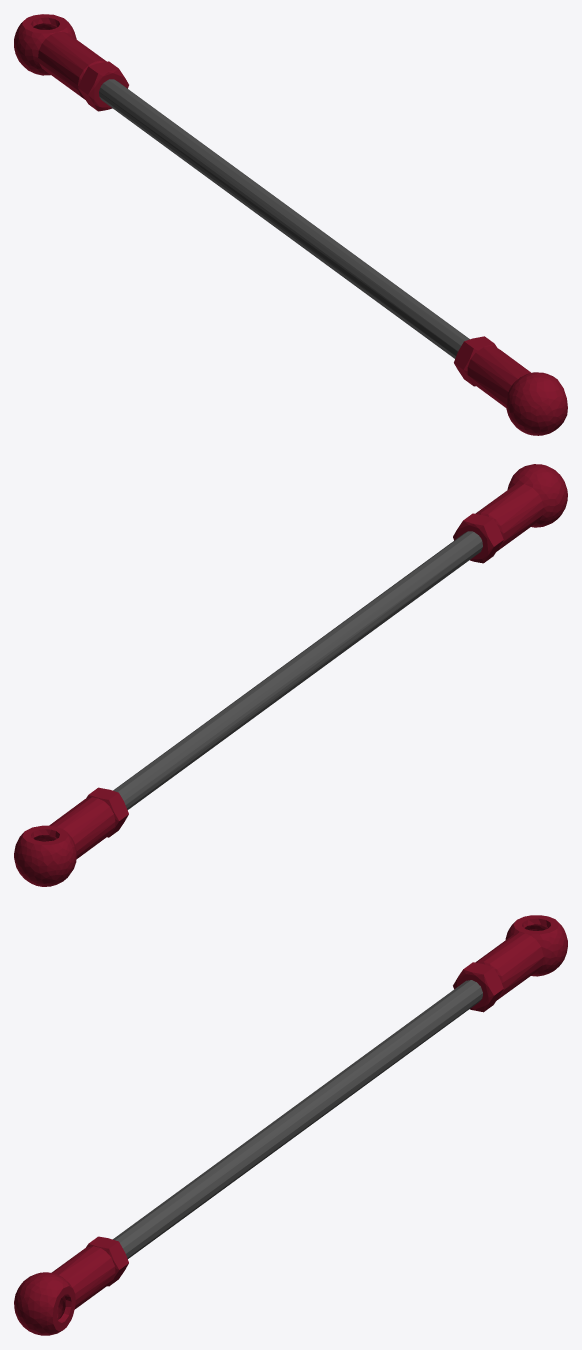
Rendered from diff-bar-right-lod-2.dae.
The picture shows the model from 3 angles, top to bottom: view 1: azimuth 30°, elevation 25°; view 2: azimuth 150°, elevation 25°; view 3: azimuth 330°, elevation 25°; orthographic projection.
Visible parts, largest first — view 1: _5-DIFFERENTIAL-BAR-R-01; view 2: _5-DIFFERENTIAL-BAR-R-01; view 3: _5-DIFFERENTIAL-BAR-R-01.
Part boxes in pixels (<box>): _5-DIFFERENTIAL-BAR-R-01: <box>14,14,567,435</box>; _5-DIFFERENTIAL-BAR-R-01: <box>14,464,567,886</box>; _5-DIFFERENTIAL-BAR-R-01: <box>14,915,567,1335</box>.
Bounding box in the file's own units: 0.015 × 0.2503 × 0.0152.
